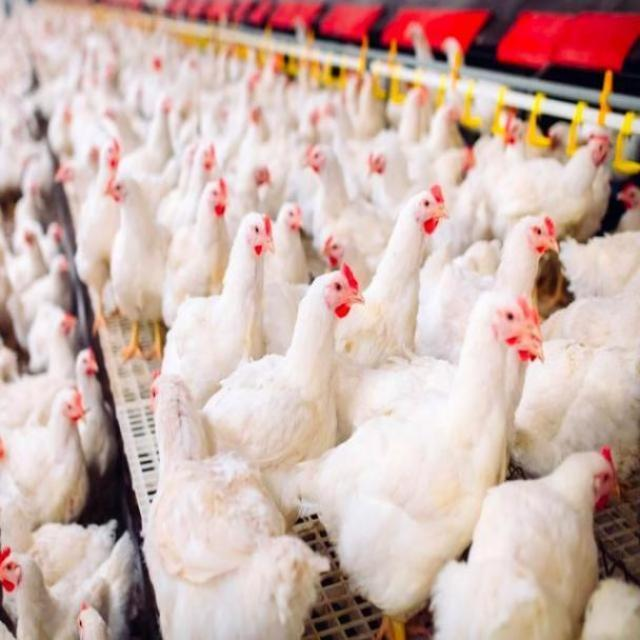Chicken: (467, 452, 619, 614), (474, 296, 527, 356), (402, 181, 449, 241), (317, 270, 365, 325), (518, 214, 564, 265), (237, 215, 272, 264), (52, 384, 86, 433), (276, 197, 306, 238), (0, 550, 29, 589), (302, 137, 330, 175), (100, 134, 127, 172), (205, 183, 231, 218), (617, 179, 640, 218), (106, 174, 132, 208), (76, 346, 98, 379), (587, 139, 611, 168), (248, 161, 273, 188)
